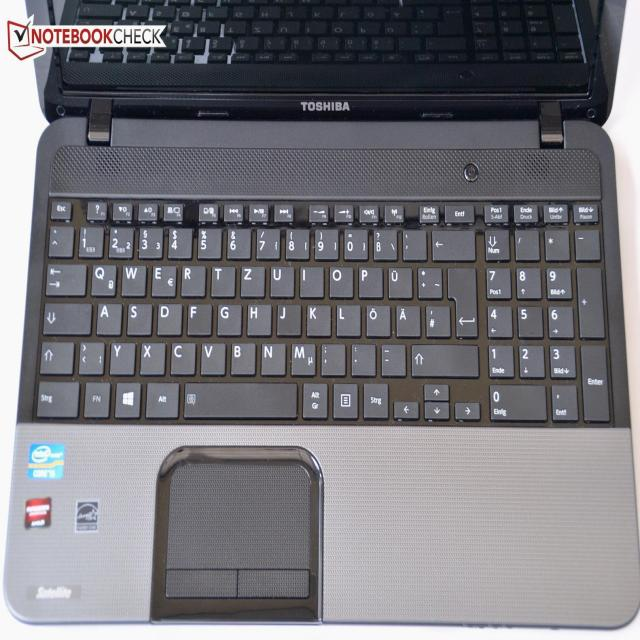0: (341, 224, 367, 258)
1: (76, 223, 103, 256)
2: (106, 223, 132, 256)
3: (135, 223, 162, 257)
4: (166, 224, 191, 257)
5: (195, 224, 220, 257)
6: (224, 224, 250, 257)
7: (254, 224, 279, 257)
8: (282, 224, 308, 258)
9: (312, 224, 338, 258)
a: (94, 299, 121, 333)
accent: (400, 225, 425, 258)
ae: (393, 301, 419, 335)
alt-left: (142, 378, 178, 416)
altgr-right: (300, 379, 327, 417)
b: (227, 338, 254, 373)
c: (168, 338, 195, 373)
caret: (46, 222, 72, 255)
comma: (319, 340, 345, 375)
d: (154, 299, 180, 334)
del: (430, 226, 474, 259)
e: (149, 260, 175, 296)
enter: (444, 262, 476, 336)
f: (185, 300, 210, 333)
g: (215, 300, 240, 333)
h: (244, 300, 270, 334)
hash: (423, 301, 449, 335)
i: (297, 263, 323, 296)
j: (274, 300, 299, 334)
k: (304, 300, 330, 335)
keyboard: (22, 180, 621, 440)
l: (334, 301, 360, 335)
less: (76, 338, 104, 373)
m: (288, 339, 315, 375)
minus: (378, 340, 404, 375)
n: (258, 338, 284, 374)
o: (326, 263, 352, 296)
oe: (363, 301, 389, 336)
p: (356, 263, 382, 296)
plus: (415, 263, 441, 297)
point: (348, 340, 375, 375)
q: (88, 260, 116, 295)
r: (179, 261, 205, 296)
s: (124, 299, 151, 334)
shift-left: (37, 337, 73, 372)
shift-lock: (40, 298, 90, 333)
shift-right: (408, 340, 477, 375)
space: (182, 378, 296, 418)
ss: (371, 226, 396, 259)
strg-left: (32, 376, 78, 416)
strg-right: (361, 379, 388, 417)
t: (208, 262, 234, 295)
tab: (43, 259, 85, 294)
u: (267, 262, 293, 296)
ue: (385, 263, 412, 297)
v: (198, 339, 224, 374)
w: (119, 260, 145, 295)
x: (137, 339, 164, 374)
y: (107, 338, 134, 373)
z: (238, 262, 264, 296)
